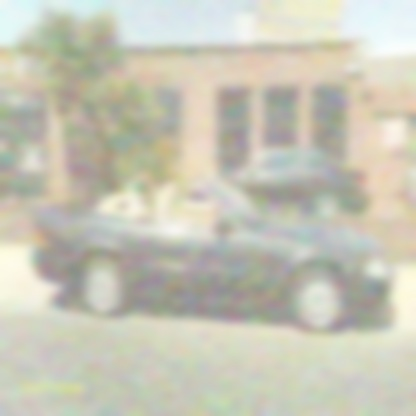Vehicle: (31, 171, 394, 334)
